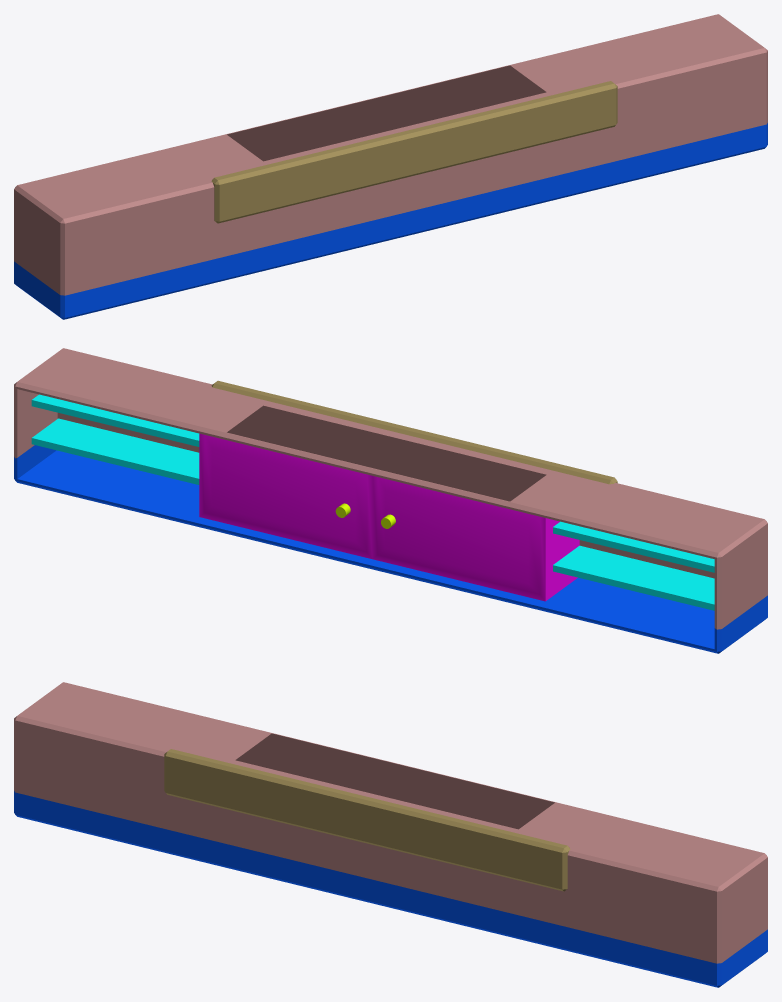
Rendered from Counter.fbx.
The picture shows the model from 3 angles, top to bottom: view 1: azimuth 30°, elevation 25°; view 2: azimuth 150°, elevation 25°; view 3: azimuth 330°, elevation 25°; orthographic projection.
Visible parts, largest first — view 1: pCube1, pCube2; view 2: pCube1, pCube3, pCube8, pCube2; view 3: pCube1, pCube2.
Part boxes in pixels (<box>): pCube1: <box>14,14,767,319</box>; pCube2: <box>211,81,617,223</box>; pCube1: <box>14,348,767,653</box>; pCube3: <box>199,433,579,601</box>; pCube8: <box>31,394,714,610</box>; pCube2: <box>211,380,617,484</box>; pCube1: <box>14,682,767,987</box>; pCube2: <box>164,749,570,891</box>.
Size of the model in its own units: 10.99 by 1.54 by 1.42.
